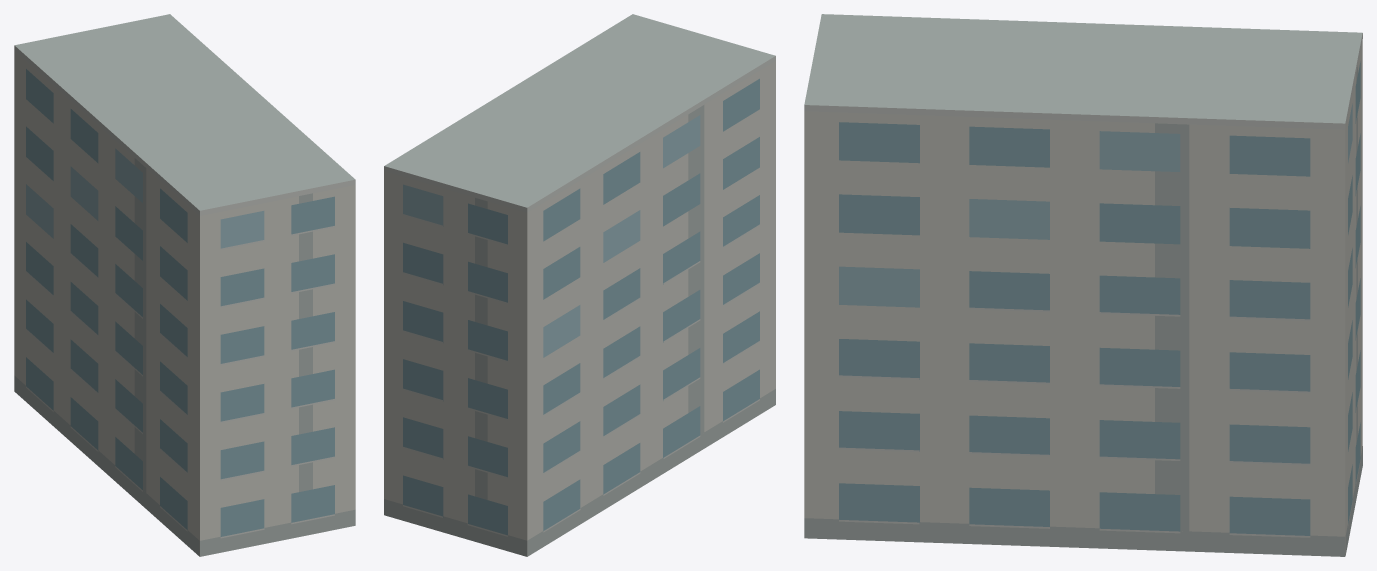
Rendered from survey-upis-33011006.glb.
The picture shows the model from 3 angles, left to right: view 1: azimuth 30°, elevation 25°; view 2: azimuth 150°, elevation 25°; view 3: azimuth 270°, elevation 25°; orthographic projection. The views are drawn at different scales.
Parts seen in each view (by area): view 1: survey-upis-33011006.tmp; view 2: survey-upis-33011006.tmp; view 3: survey-upis-33011006.tmp.
Boxes of the visible parts, x1,y1,x2,y2 form: survey-upis-33011006.tmp: [14, 14, 355, 556]; survey-upis-33011006.tmp: [384, 14, 775, 556]; survey-upis-33011006.tmp: [804, 14, 1362, 556].
Bounding box in the file's own units: 8.98 × 16.55 × 19.34.
